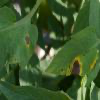Potato leaf early blight: (44, 26, 99, 77), (1, 5, 39, 71)
